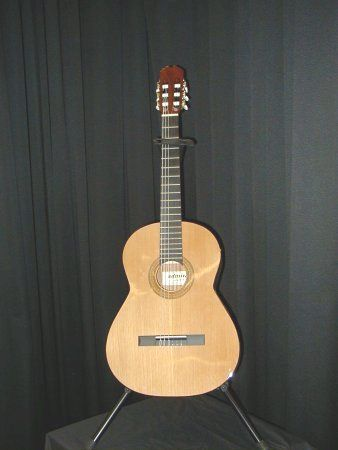guitar: (104, 62, 244, 399)
